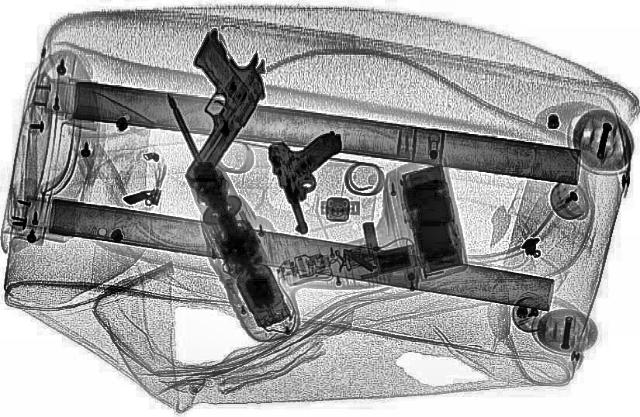Gun: (126, 28, 296, 174), (262, 130, 368, 233)
